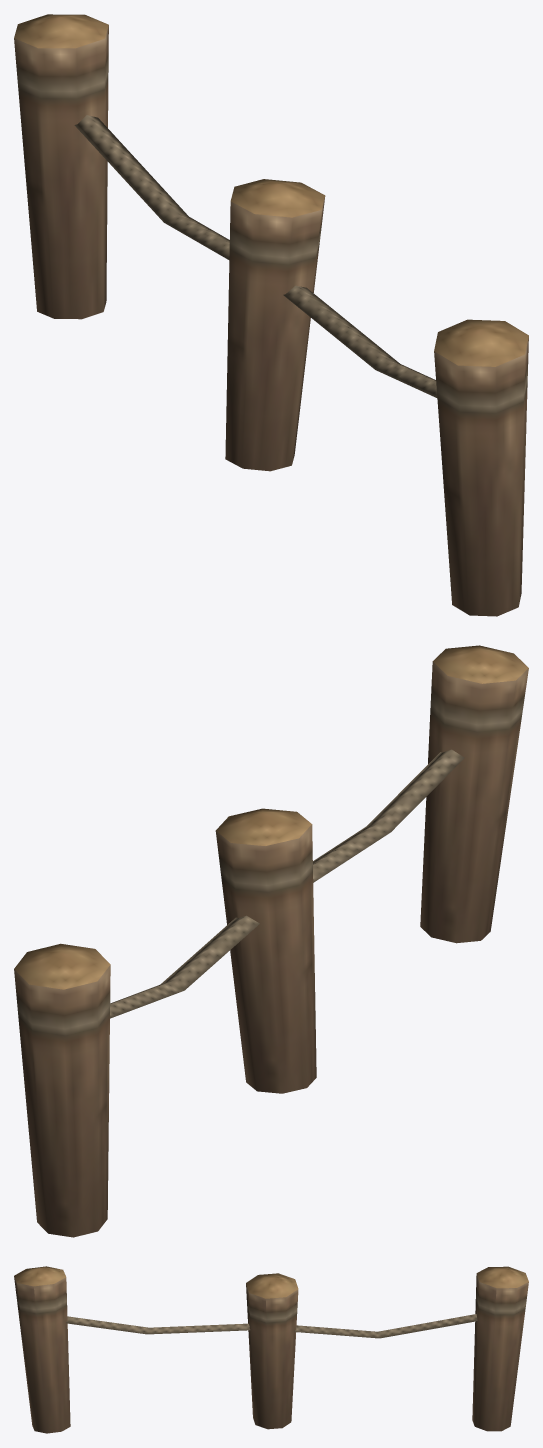
File: wood_fence.FBX
3 renders of one model, top to bottom at view 1: azimuth 30°, elevation 25°; view 2: azimuth 150°, elevation 25°; view 3: azimuth 270°, elevation 25°, orthographic. The views are drawn at different scales.
Parts seen in each view (by area): view 1: Object136; view 2: Object136; view 3: Object136.
Part boxes in pixels (x1=…): Object136: x1=14, y1=14, x2=528, y2=616; Object136: x1=14, y1=645, x2=528, y2=1237; Object136: x1=14, y1=1266, x2=528, y2=1433.
Bounding box in the file's own units: 8.61 × 25.23 × 76.01.
